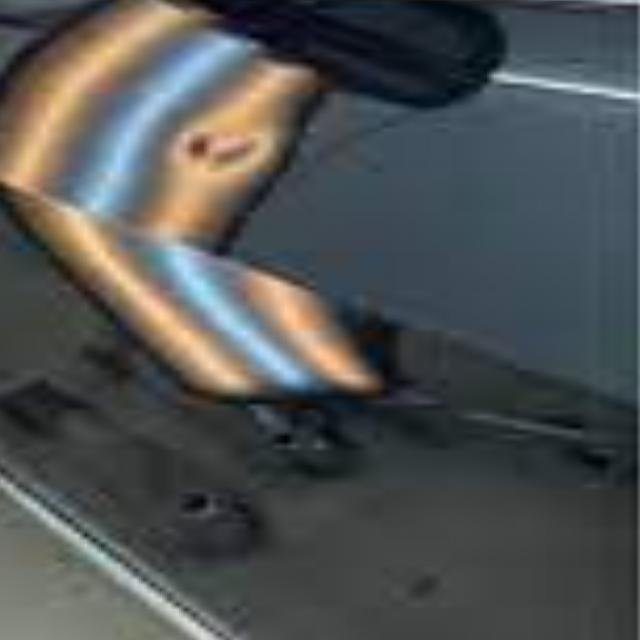dents: (148, 135, 317, 174)
